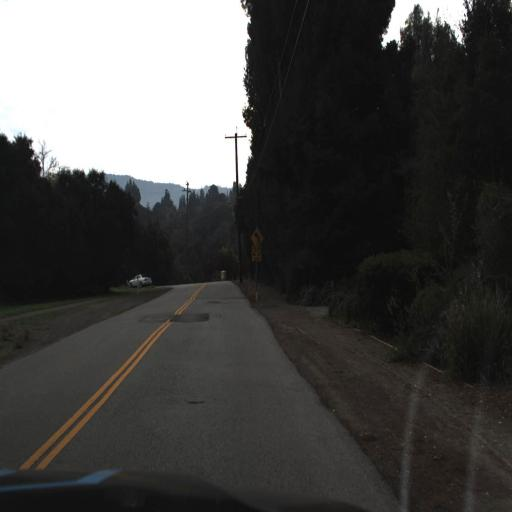car: (126, 269, 153, 292), (128, 273, 151, 287)
